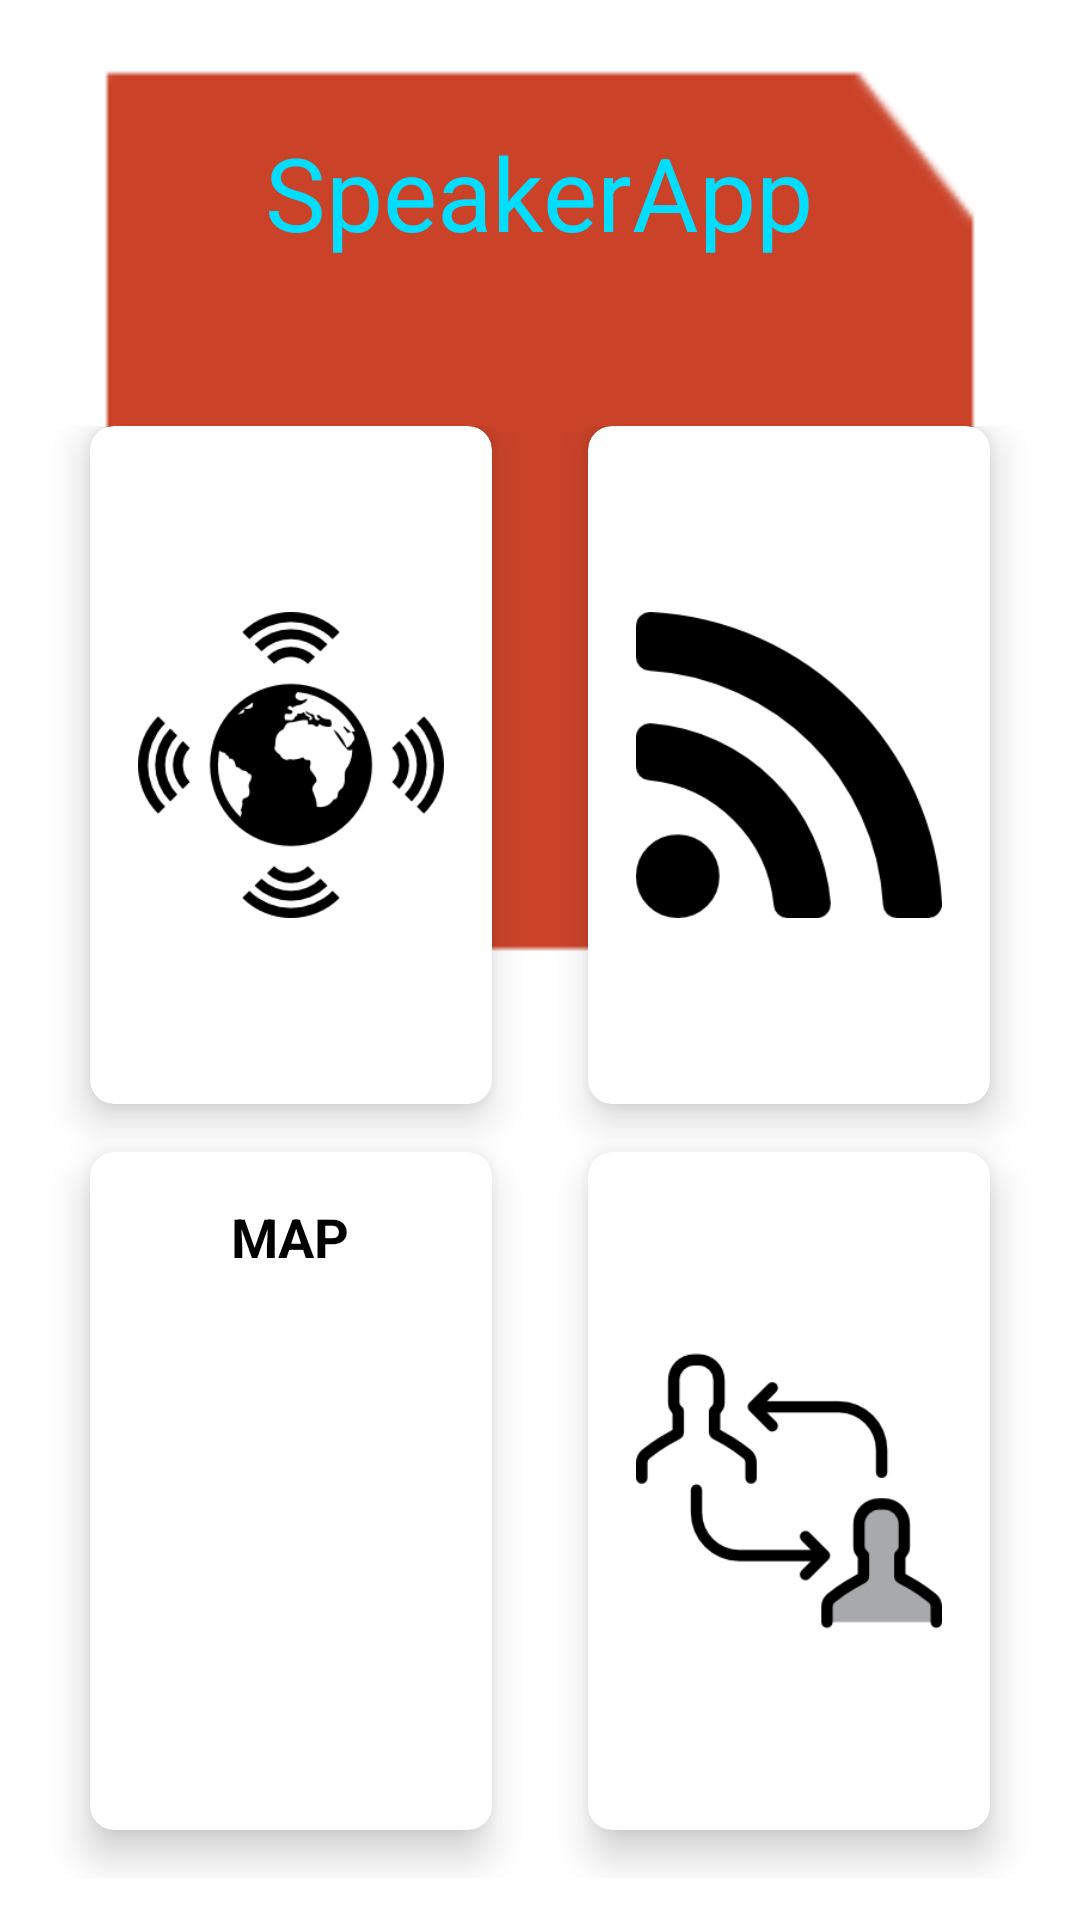

Icons on this 1080×1920 Android screen, each with the point to tap as [x,y]:
transfer: [789,1491]
worldwide: [291,765]
